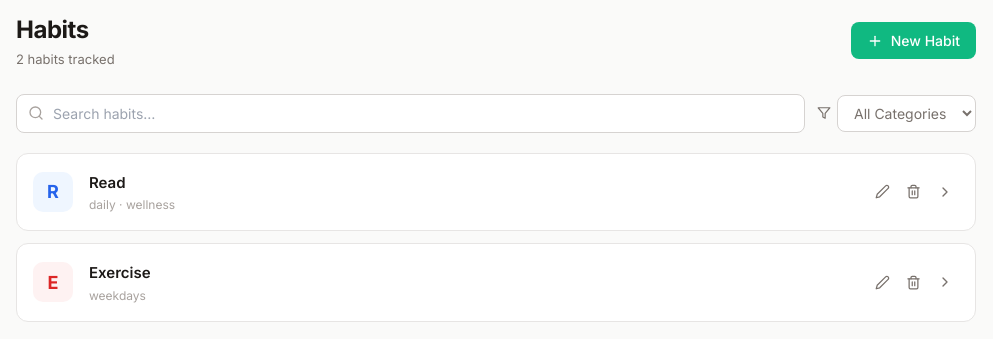
Test case: Habits page › filters habits by search
This screenshot has width=993, height=339.
Check: the link "Read" is shown, box [89, 172, 126, 192]
Type "exercise" into the field with placeholder "Search habits…".
click(410, 113); type("exercise")  # box [16, 94, 805, 132]
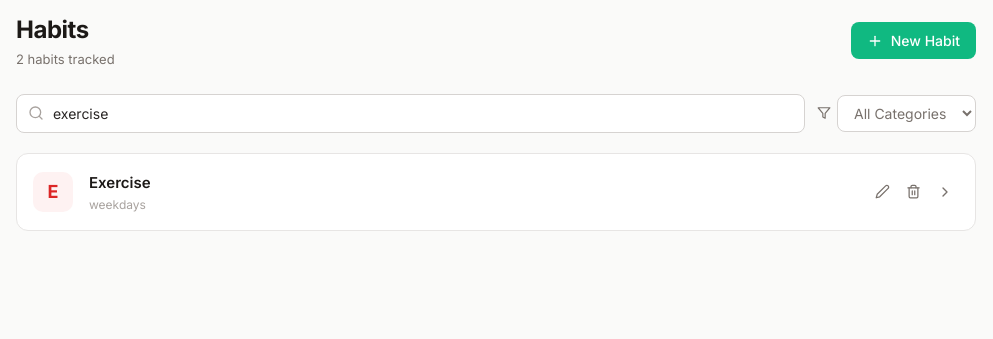
Check: the link "Exercise" is shown, box [89, 172, 151, 192]
Check: the link "Read" is gone
